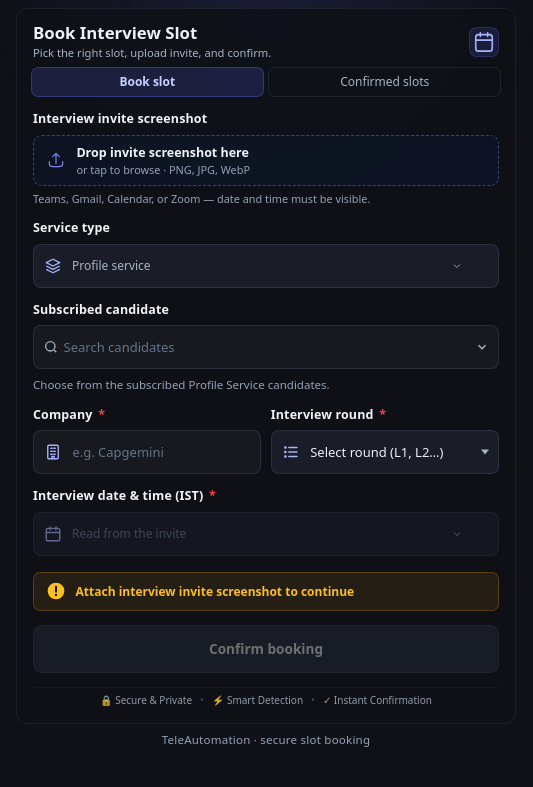
Test case: Round-wise payment — upload carries correct service_type › sends service_type=round_wise and phone/technology/interview_round with payment upload
Click the button "Profile service": (111, 266) 33,244 -> 499,288
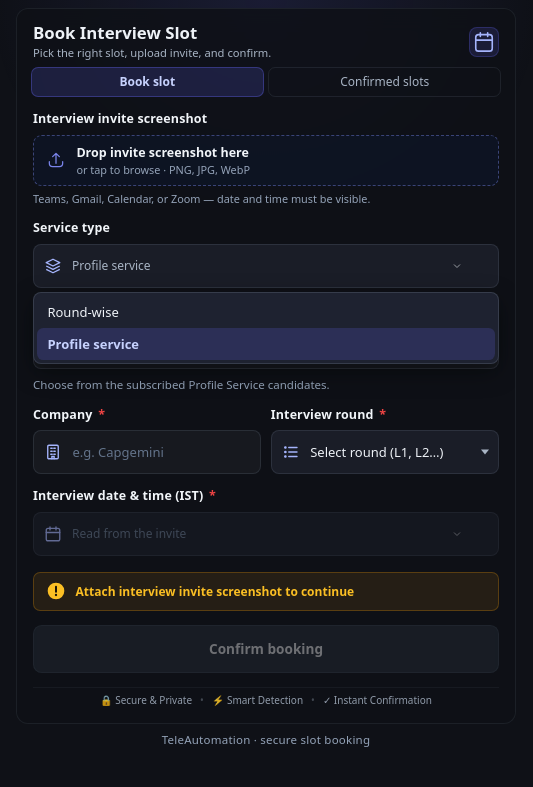
Click the list item "Round-wise": (83, 312) 47,303 -> 119,321
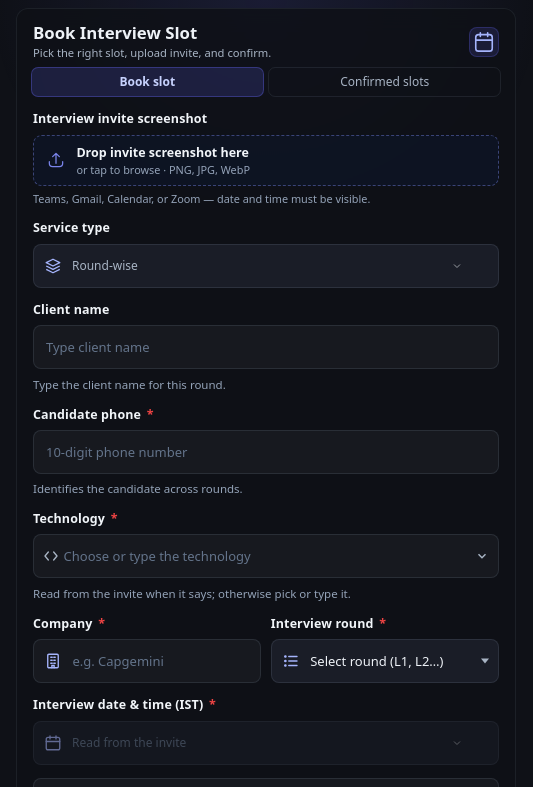
In the field with placeholder "Type client name": (266, 347) 33,325 -> 499,369, type "venkat"
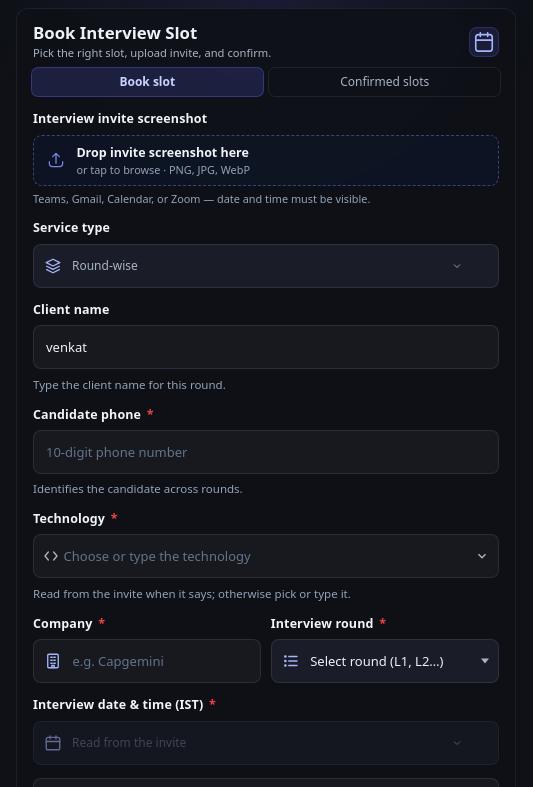
In the field with placeholder "10-digit phone number": (266, 452) 33,430 -> 499,474, type "9000000101"
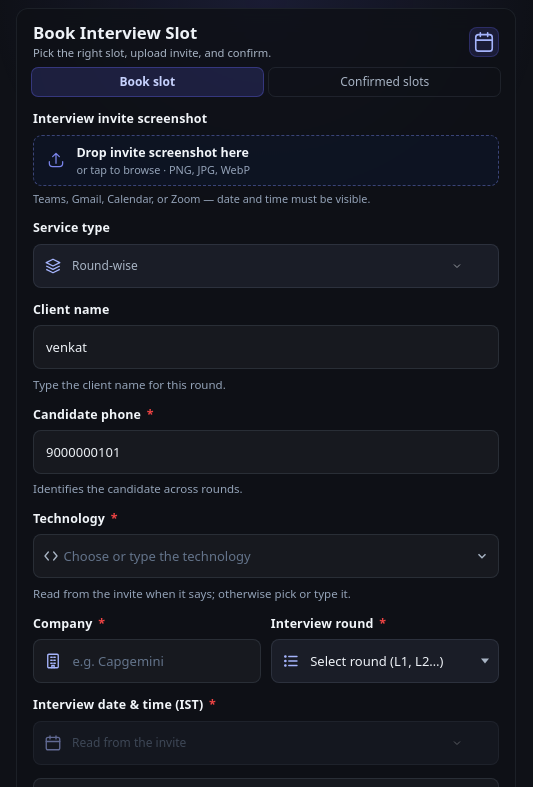
In the field with placeholder "Choose or type the technology": (266, 556) 33,534 -> 499,578, type "Java"
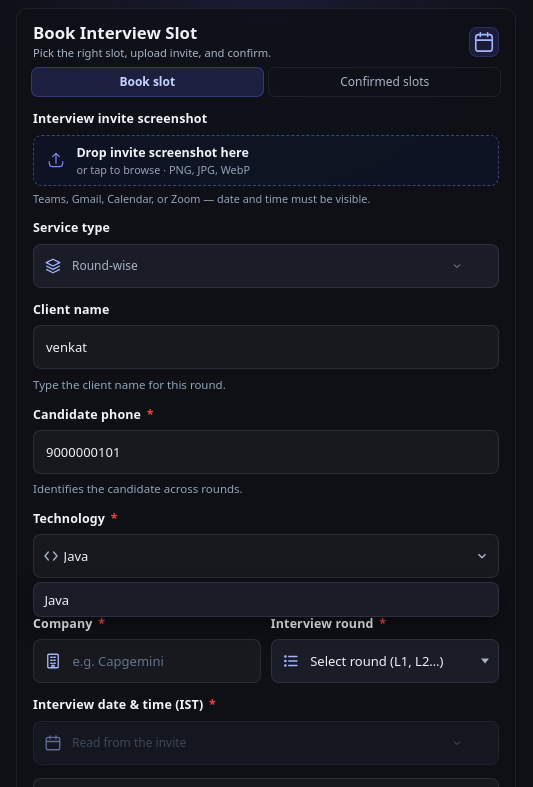
Select "L1" in the dropdown: (385, 661) 271,639 -> 499,683
(page scrolled)
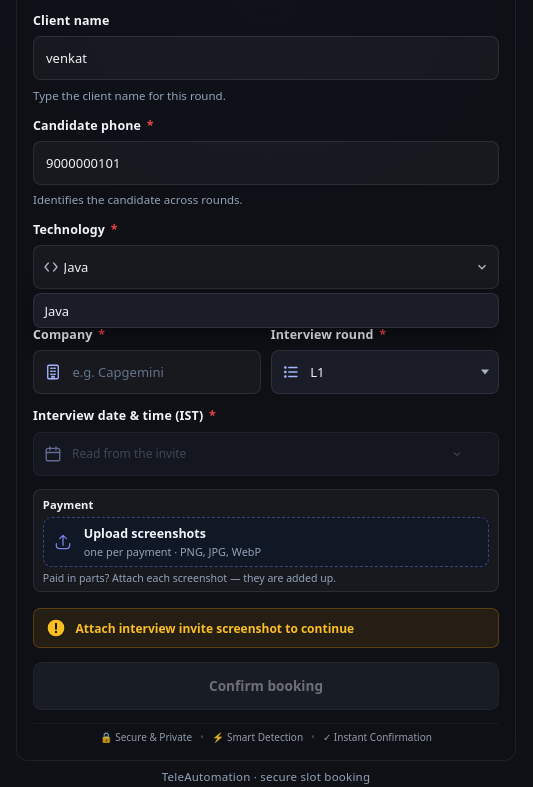
Expected: the text "Paid in parts? Attach each screenshot — they are added up." is shown, 43,571 -> 336,585
